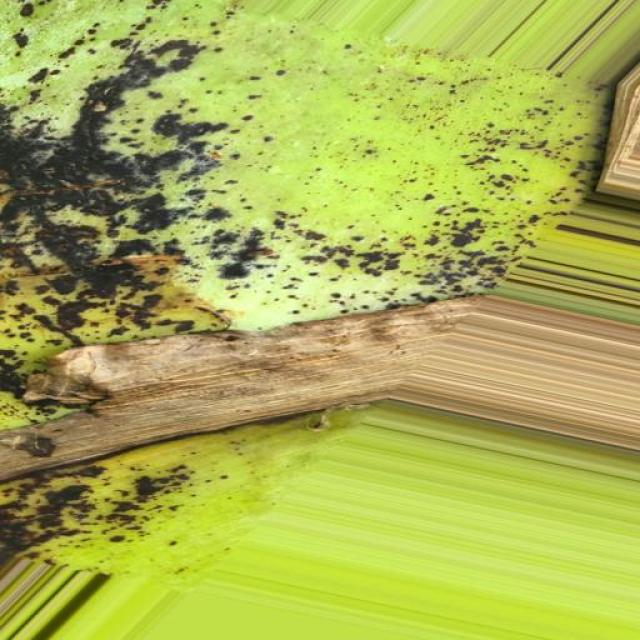Anthracnose: (4, 0, 640, 584)
